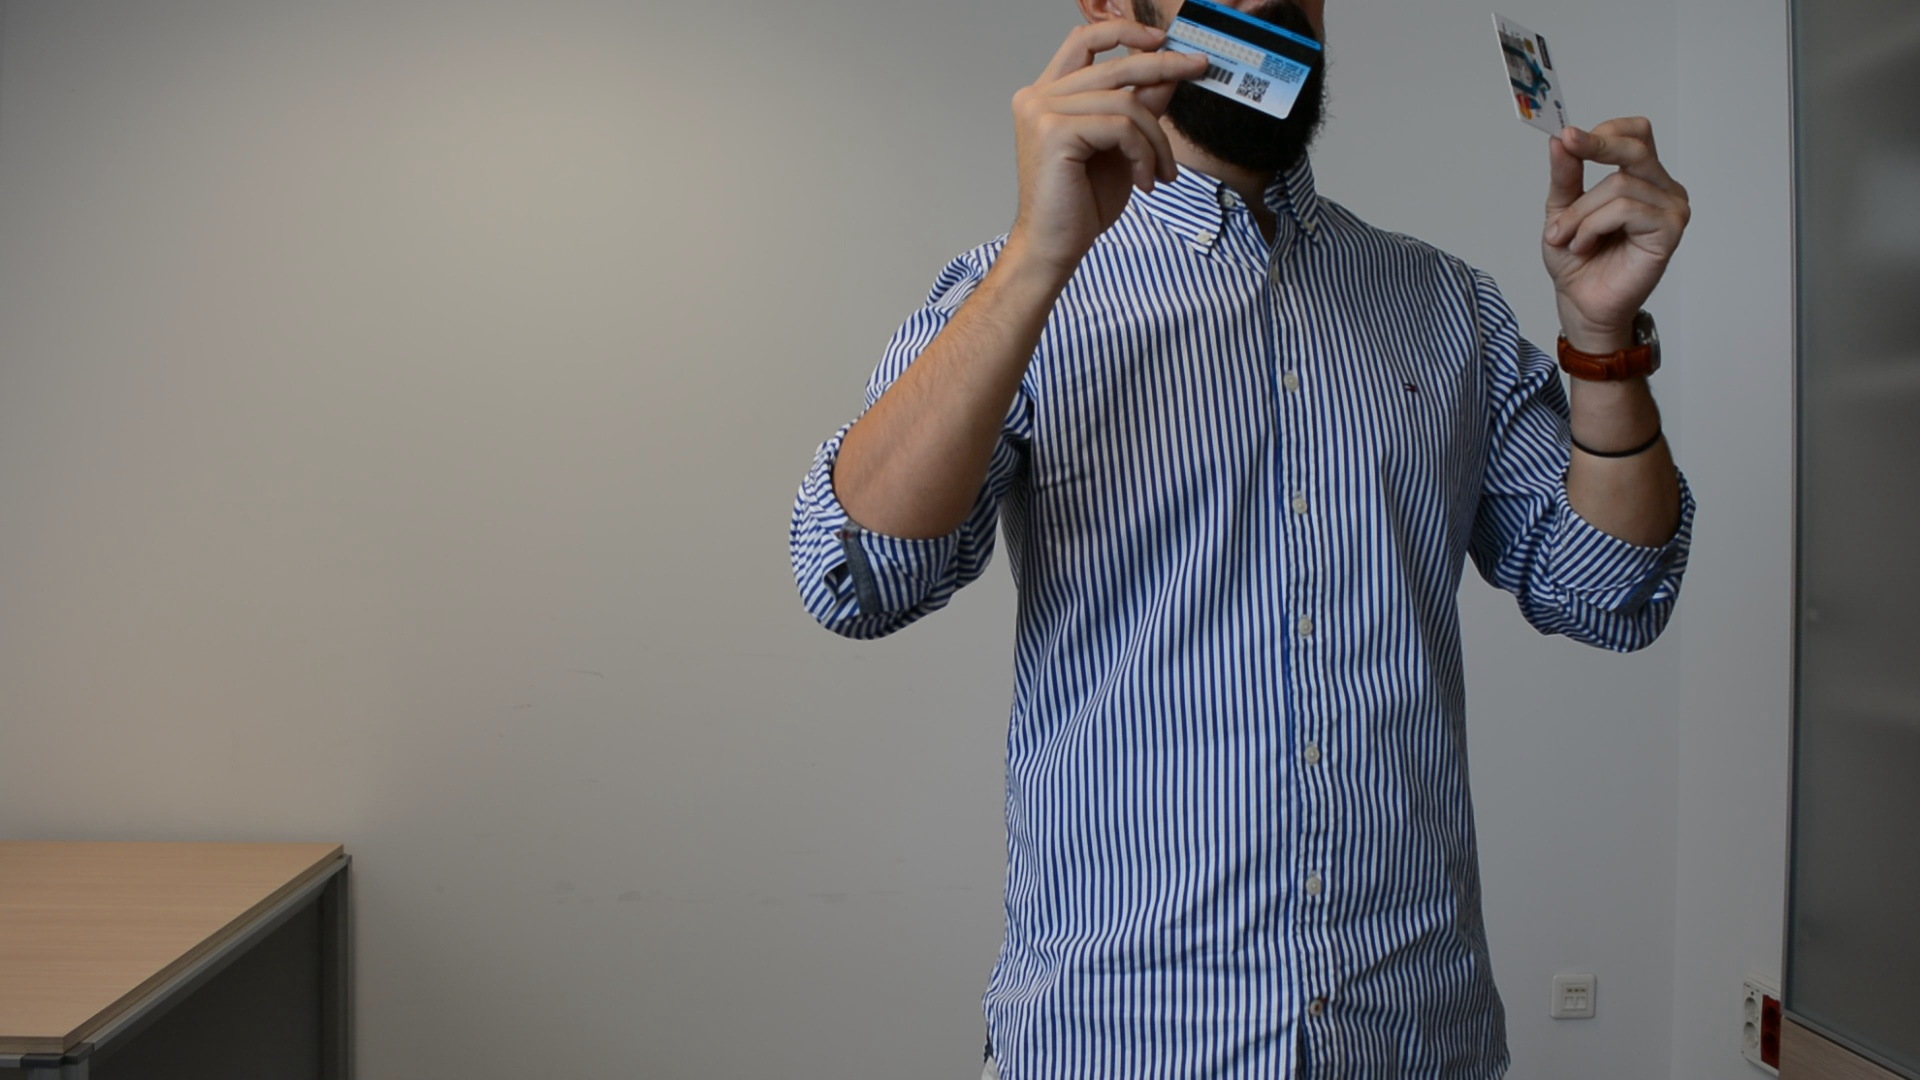tarjeta: (1150, 1, 1327, 123), (1487, 8, 1576, 146)
